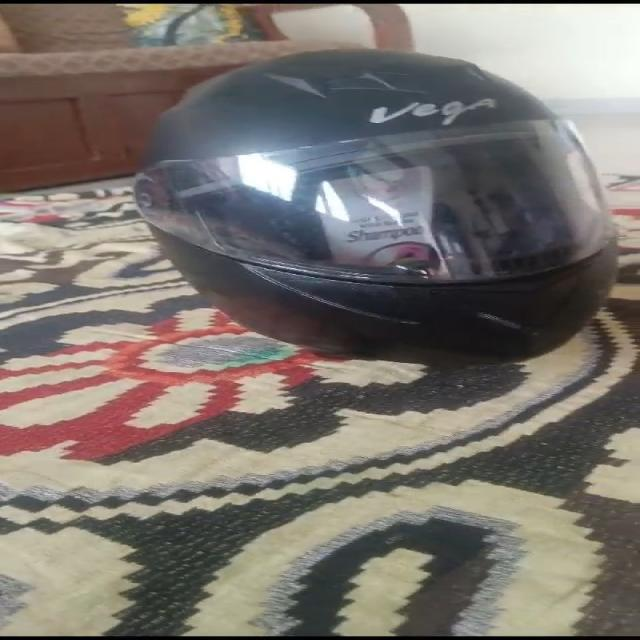Helmet: (133, 47, 617, 359)
